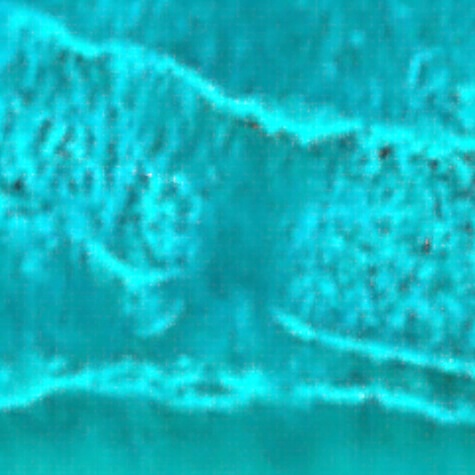rip_current: (166, 51, 327, 361)
